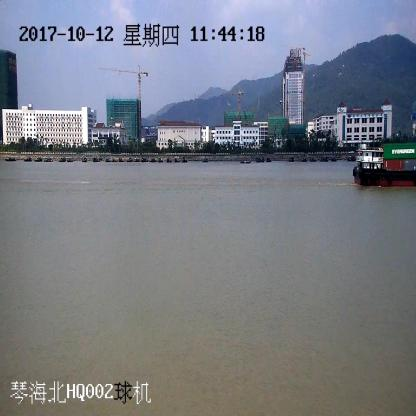Container Ship: (354, 144, 416, 186)
